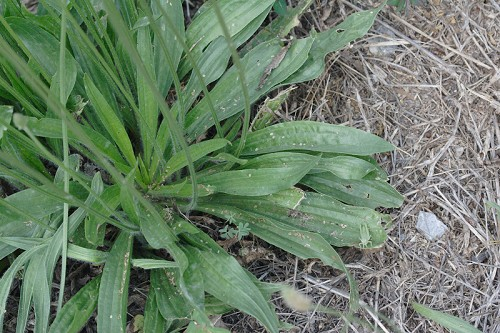buckhorn plantain: (1, 6, 386, 292)
